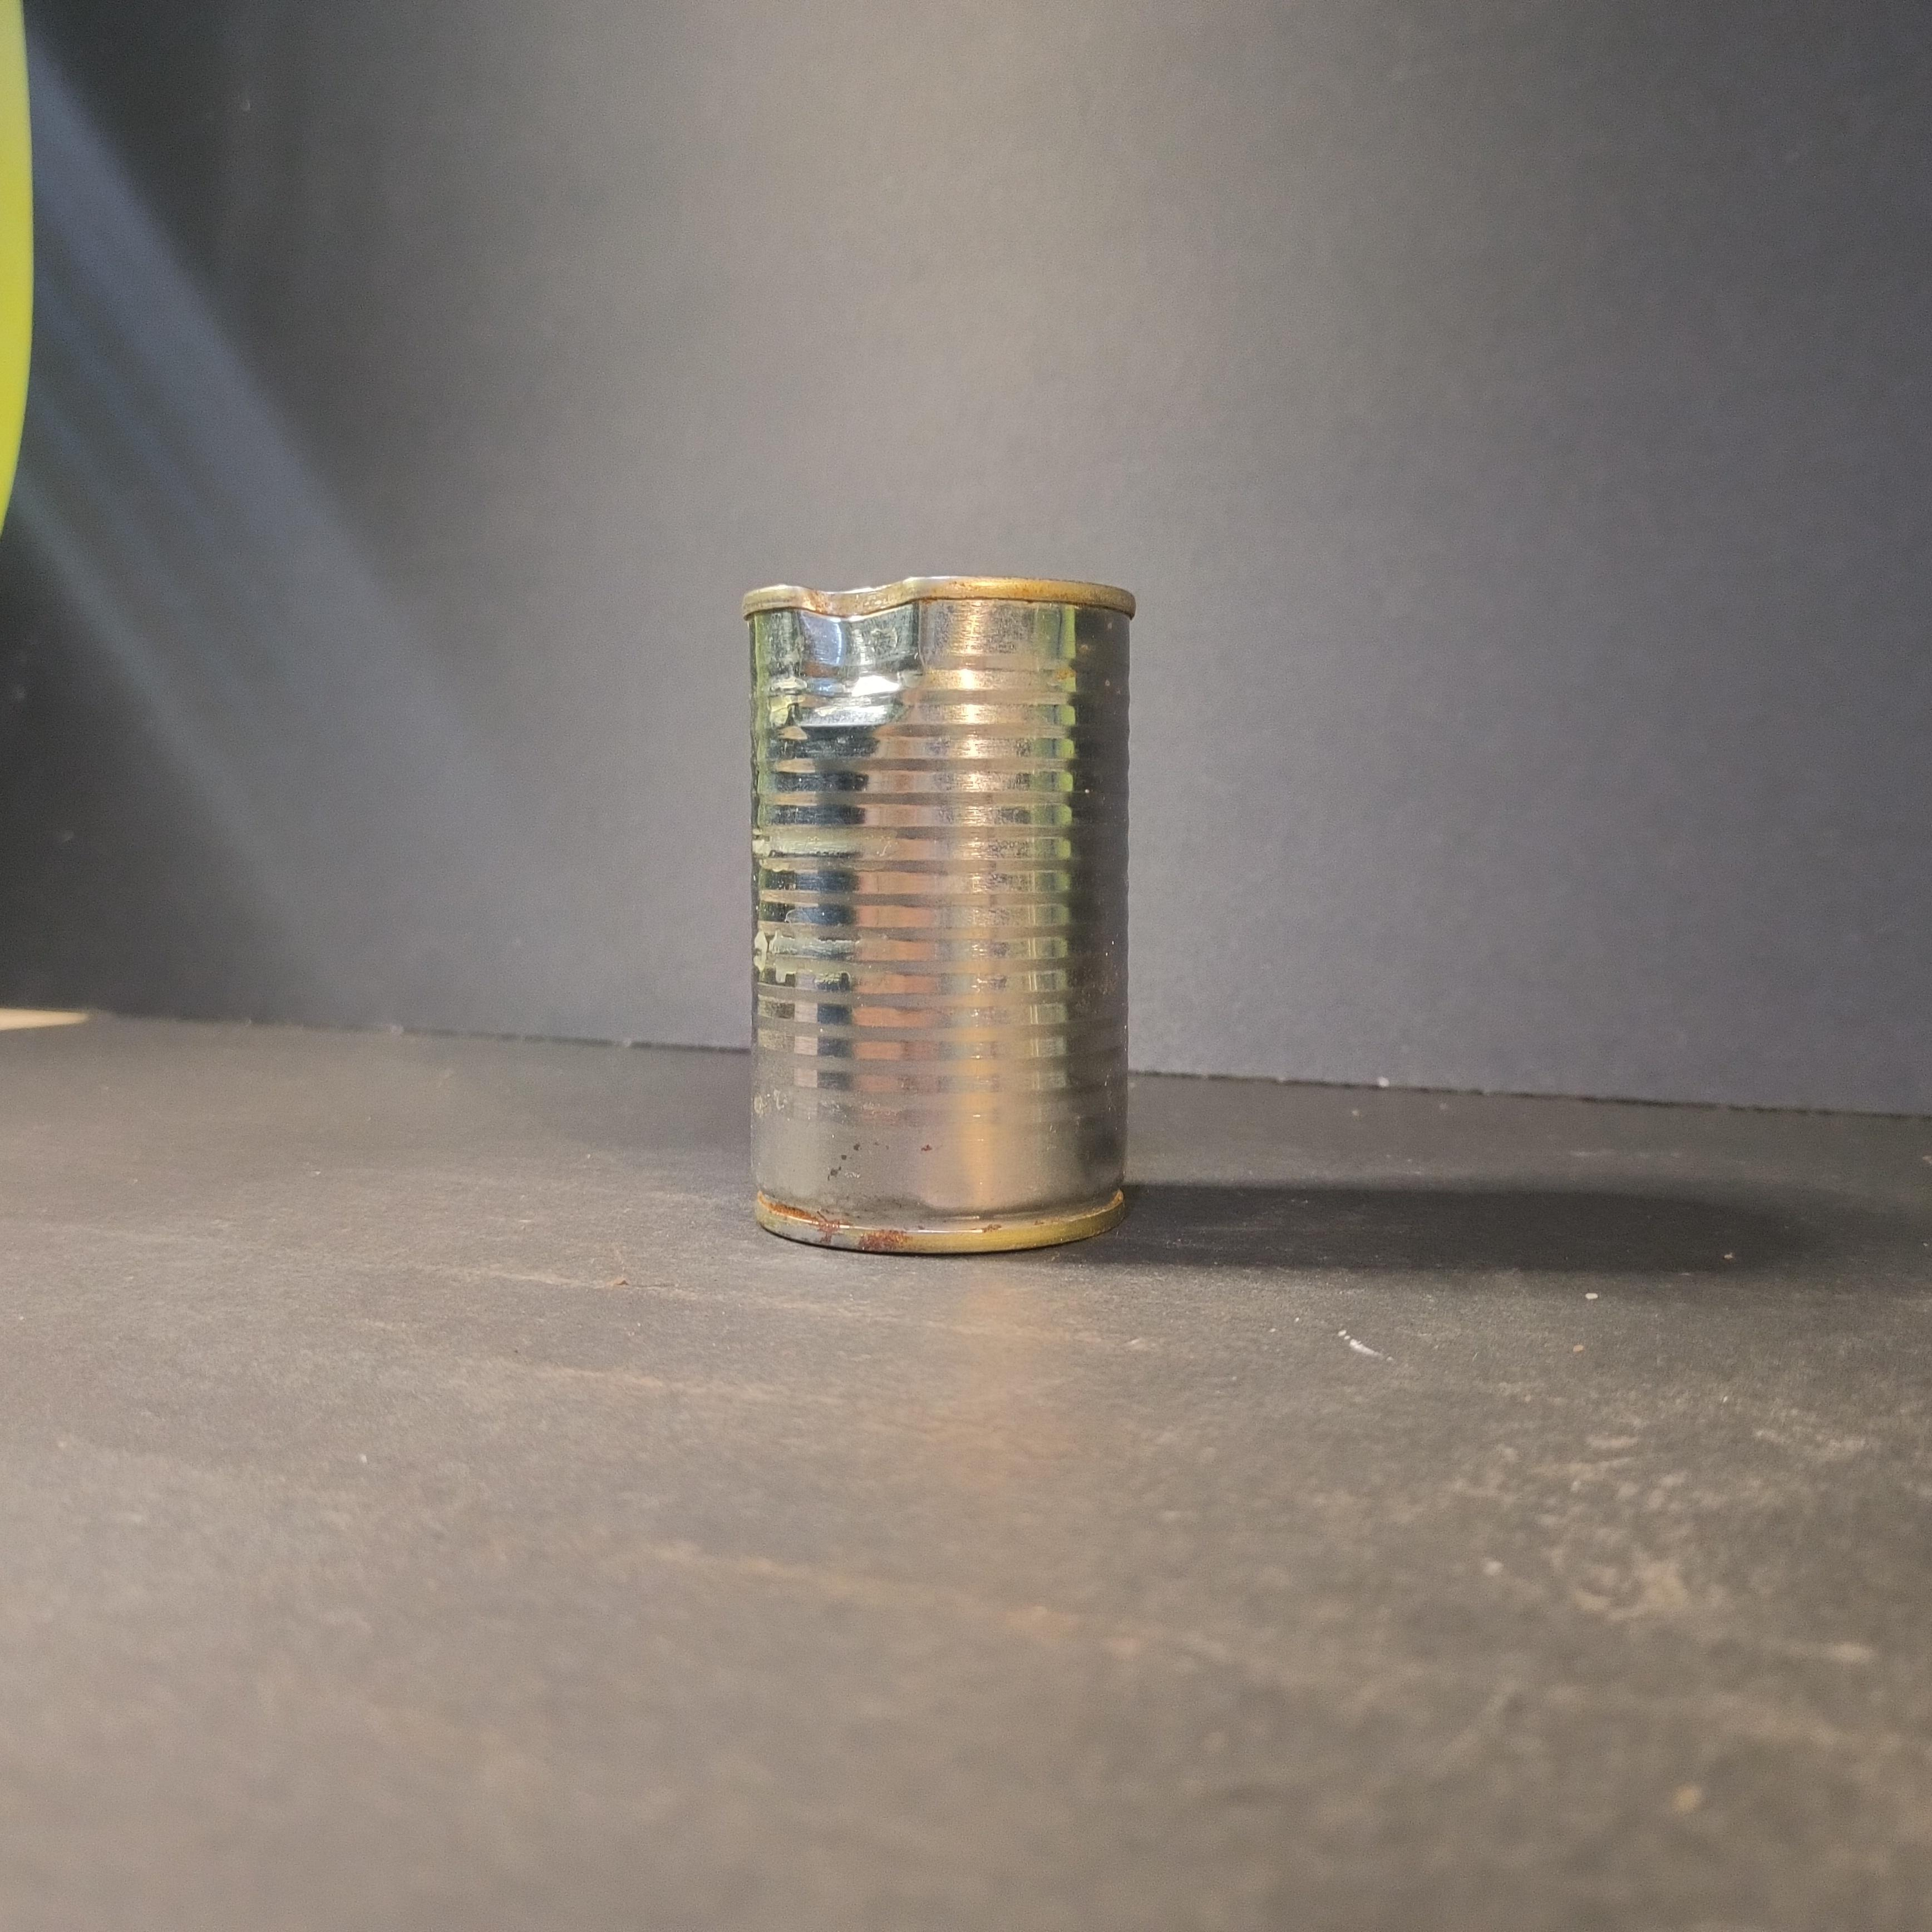Dented: (709, 540, 1157, 1283)
